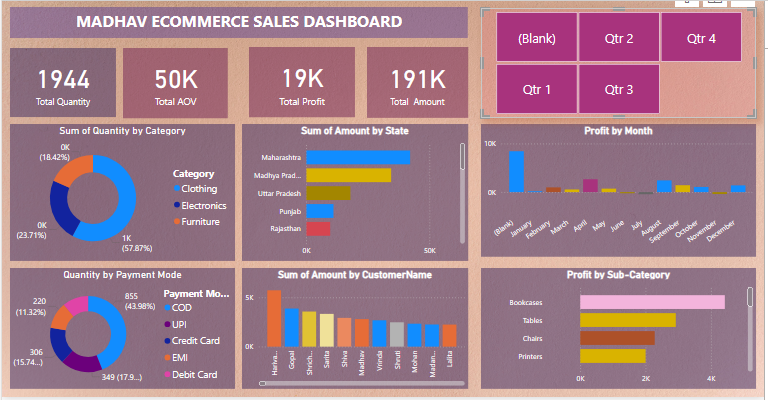

The page's visual inventory and layout, read from the dashboard file:
{"tool":"powerbi","page":{"name":"Page 1","canvas":[1280,720],"ordinal":0},"visuals":[{"type":"textbox","box":[13.4,65.5,769.3,52.1],"z":0},{"type":"columnChart","fields":{"Category":["Orders.Order Date.Variation.Date Hierarchy.Month"],"Y":["Sum(Details.Profit)"]},"box":[804.6,262,461.9,223.4],"z":1000},{"type":"barChart","fields":{"Category":["Details.Sub-Category"],"Y":["Sum(Details.Profit)"]},"box":[804.6,503.9,461.9,203.3],"z":2000},{"type":"donutChart","fields":{"Category":["Details.Category"],"Y":["Sum(Details.Quantity)"]},"box":[13.4,262,378,230.1],"z":3000},{"type":"donutChart","fields":{"Y":["Sum(Details.Quantity)"],"Category":["Details.PaymentMode"]},"box":[13.4,503.9,378,203.3],"z":4000},{"type":"card","fields":{"Values":["Sum(Details.Amount)"]},"box":[613.1,132.7,169.7,119.3],"z":5000},{"type":"card","fields":{"Values":["Sum(Details.Profit)"]},"box":[414.9,132.7,178.1,117.6],"z":6000},{"type":"card","fields":{"Values":["Sum(Details.Quantity)"]},"box":[13.4,134.4,178.1,115.9],"z":7000},{"type":"card","fields":{"Values":["Sum(Details.AOV)"]},"box":[203.3,134.4,176.4,117.6],"z":8000},{"type":"barChart","fields":{"Category":["Orders.State"],"Y":["Sum(Details.Amount)"]},"box":[403.1,262,379.6,230.1],"z":9000},{"type":"columnChart","fields":{"Category":["Orders.CustomerName"],"Y":["Sum(Details.Amount)"]},"box":[403.1,503.9,379.6,203.3],"z":10000},{"type":"slicer","fields":{"Values":["Orders.Order Date.Variation.Date Hierarchy.Quarter"]},"box":[804.6,67.2,461.9,184.8],"z":11000}]}

Visuals, with their boxes on the page's 1280x720 design canvas (x1, y1, x2, y2). These are canvas units, not pixel positions in the 768x400 screenshot, which may show the page scaled, cropped or inside an application window:
textbox: (13, 66, 783, 118)
columnChart - Orders.Order Date.Variation.Date Hierarchy.Month x Sum(Details.Profit): (805, 262, 1266, 485)
barChart - Details.Sub-Category x Sum(Details.Profit): (805, 504, 1266, 707)
donutChart - Details.Category x Sum(Details.Quantity): (13, 262, 391, 492)
donutChart - Sum(Details.Quantity) x Details.PaymentMode: (13, 504, 391, 707)
card - Sum(Details.Amount): (613, 133, 783, 252)
card - Sum(Details.Profit): (415, 133, 593, 250)
card - Sum(Details.Quantity): (13, 134, 192, 250)
card - Sum(Details.AOV): (203, 134, 380, 252)
barChart - Orders.State x Sum(Details.Amount): (403, 262, 783, 492)
columnChart - Orders.CustomerName x Sum(Details.Amount): (403, 504, 783, 707)
slicer - Orders.Order Date.Variation.Date Hierarchy.Quarter: (805, 67, 1266, 252)
